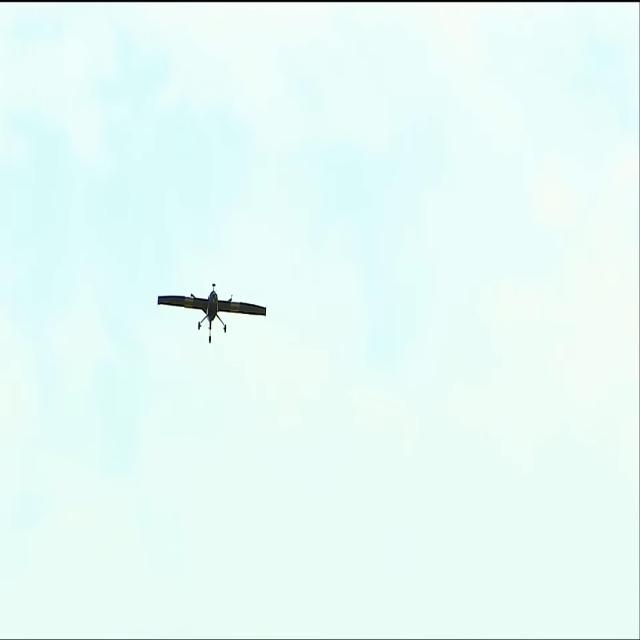iha: (189, 284, 236, 344)
